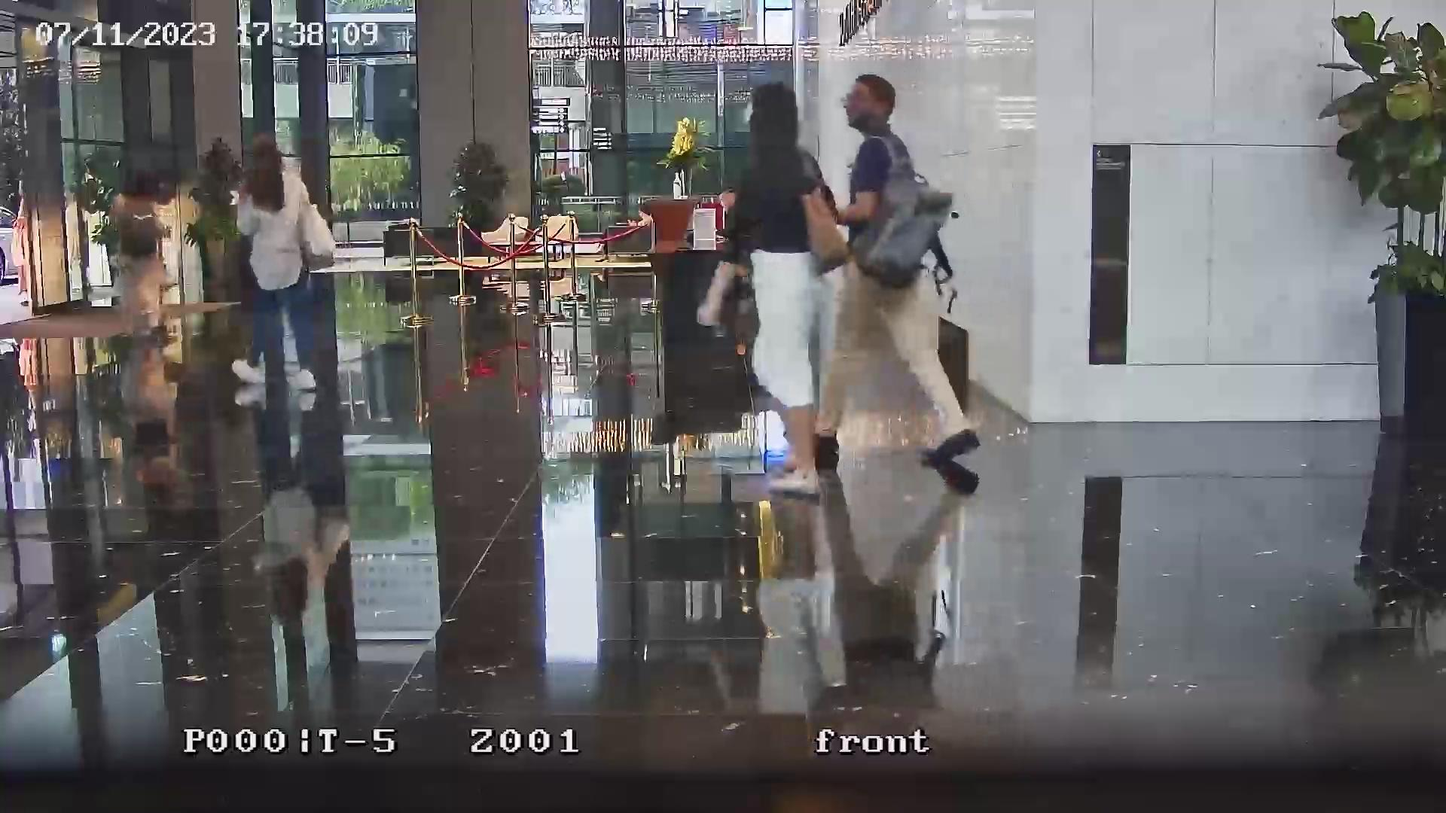person: (823, 72, 981, 500), (725, 82, 844, 486), (232, 132, 335, 397), (112, 170, 172, 344)
